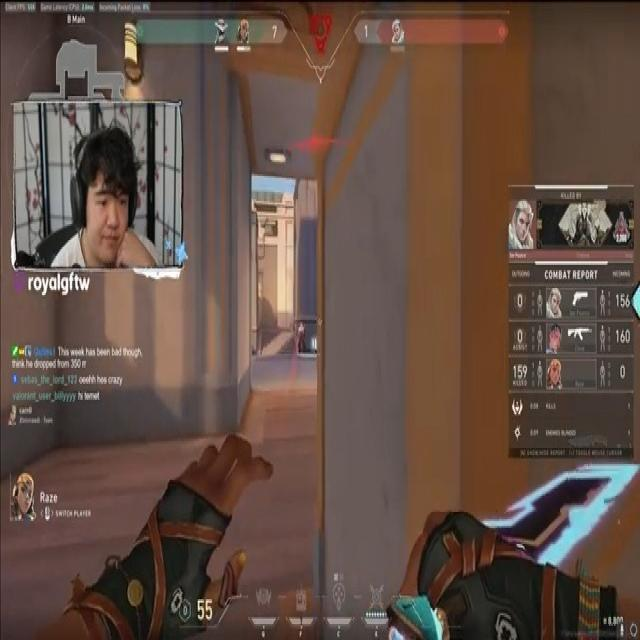enemy: (298, 322, 305, 352)
